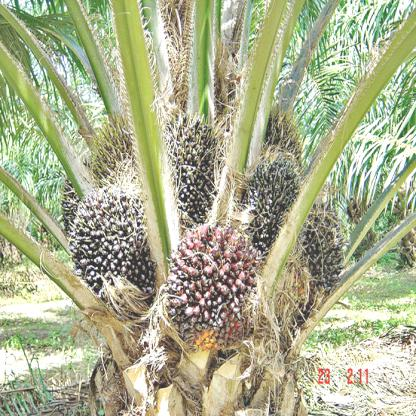1: (160, 222, 265, 336)
palm-oil: (69, 185, 154, 297), (238, 152, 298, 254), (164, 117, 222, 215), (292, 204, 346, 296), (89, 115, 133, 182), (264, 110, 304, 151), (60, 174, 80, 232)
